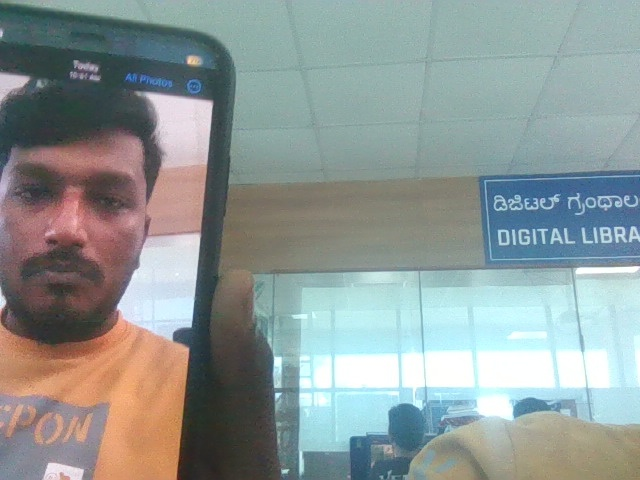fake: (0, 41, 217, 348)
